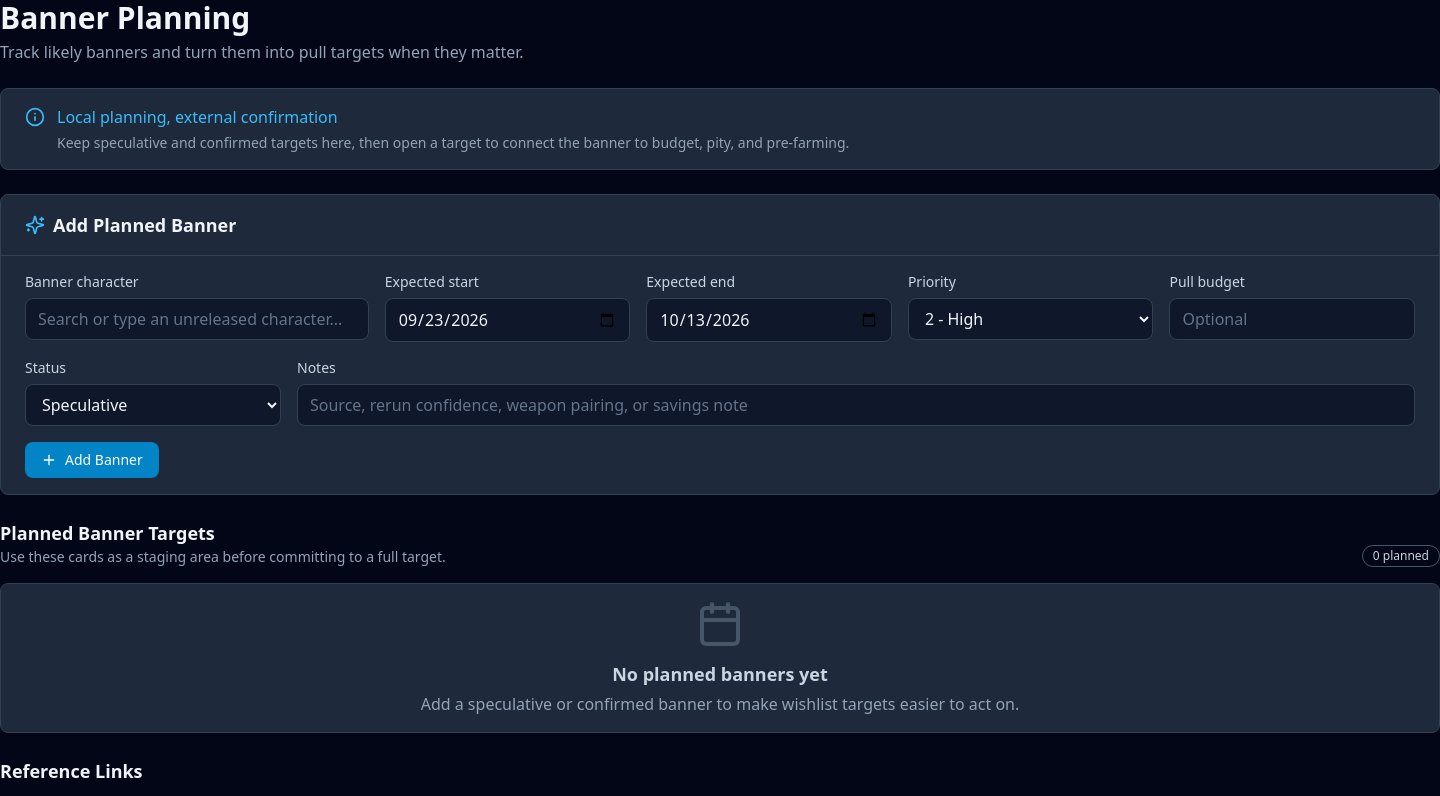
Scenario: BannersTab › validates that the expected end date is after the start date
Type "Furina" into the dropdown labelled "Banner character" at (197, 319), box [25,298,369,340]
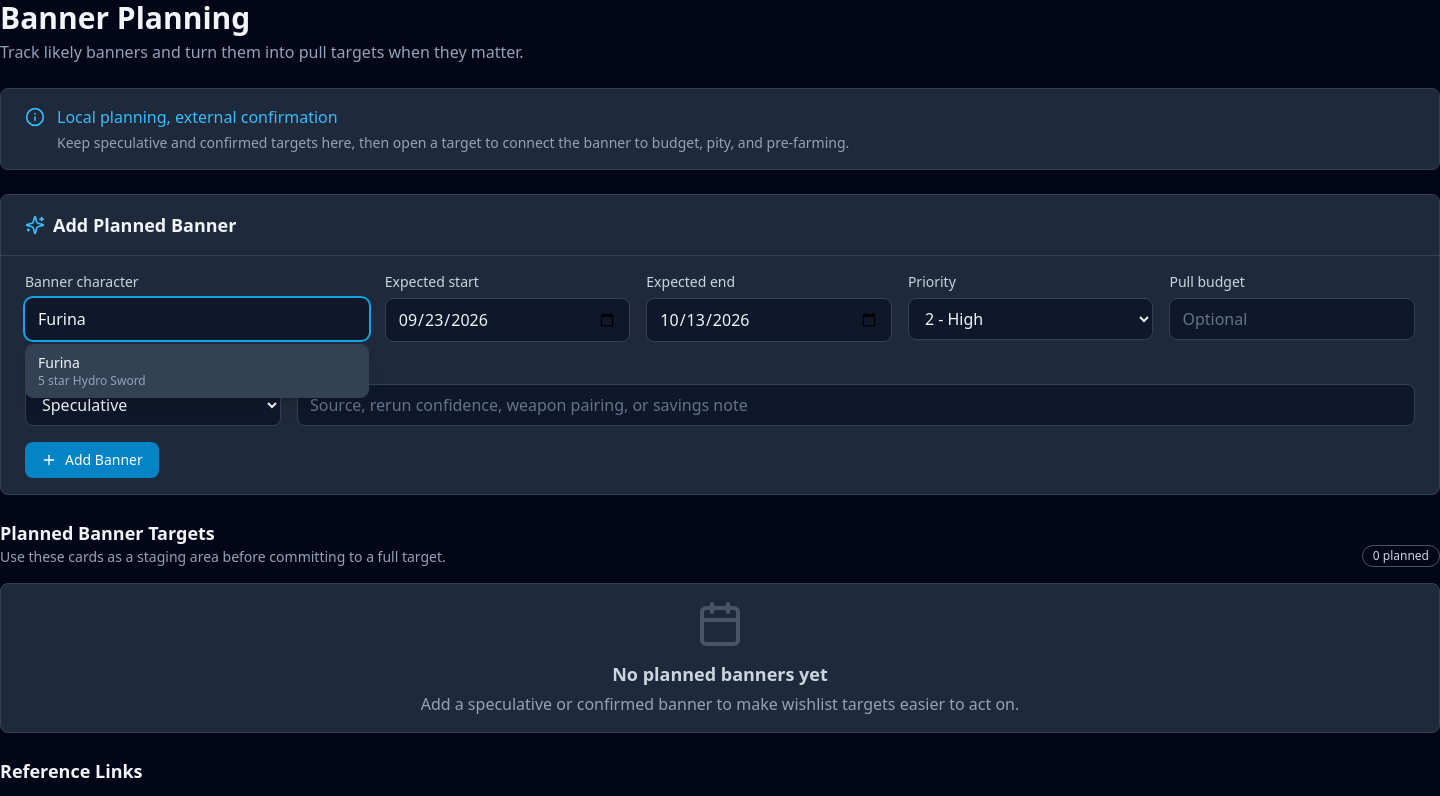
Type "2026-06-21" into the date field labelled "Expected start" at (508, 320), box [385,298,630,342]
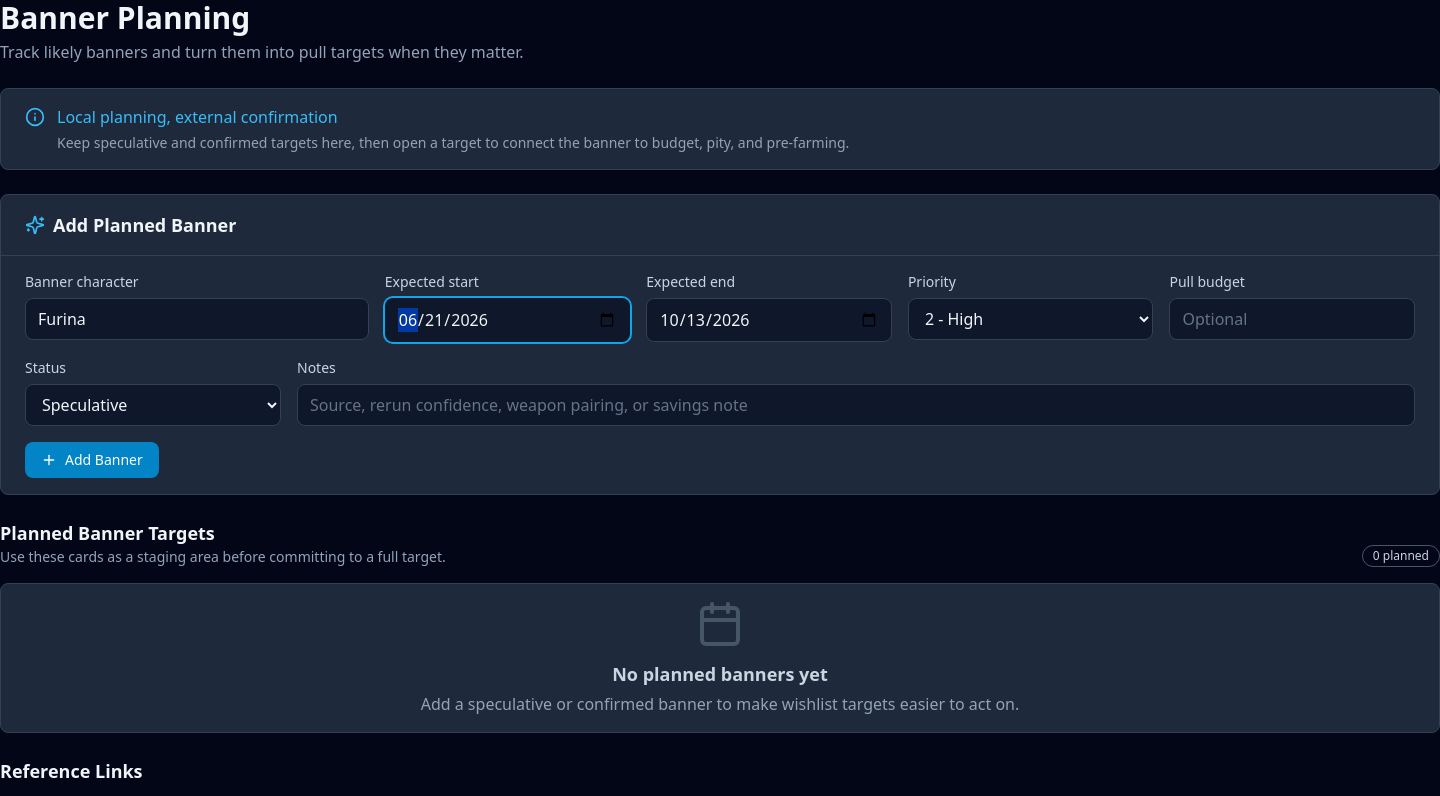
Type "2026-06-01" into the date field labelled "Expected end" at (769, 320), box [646,298,892,342]
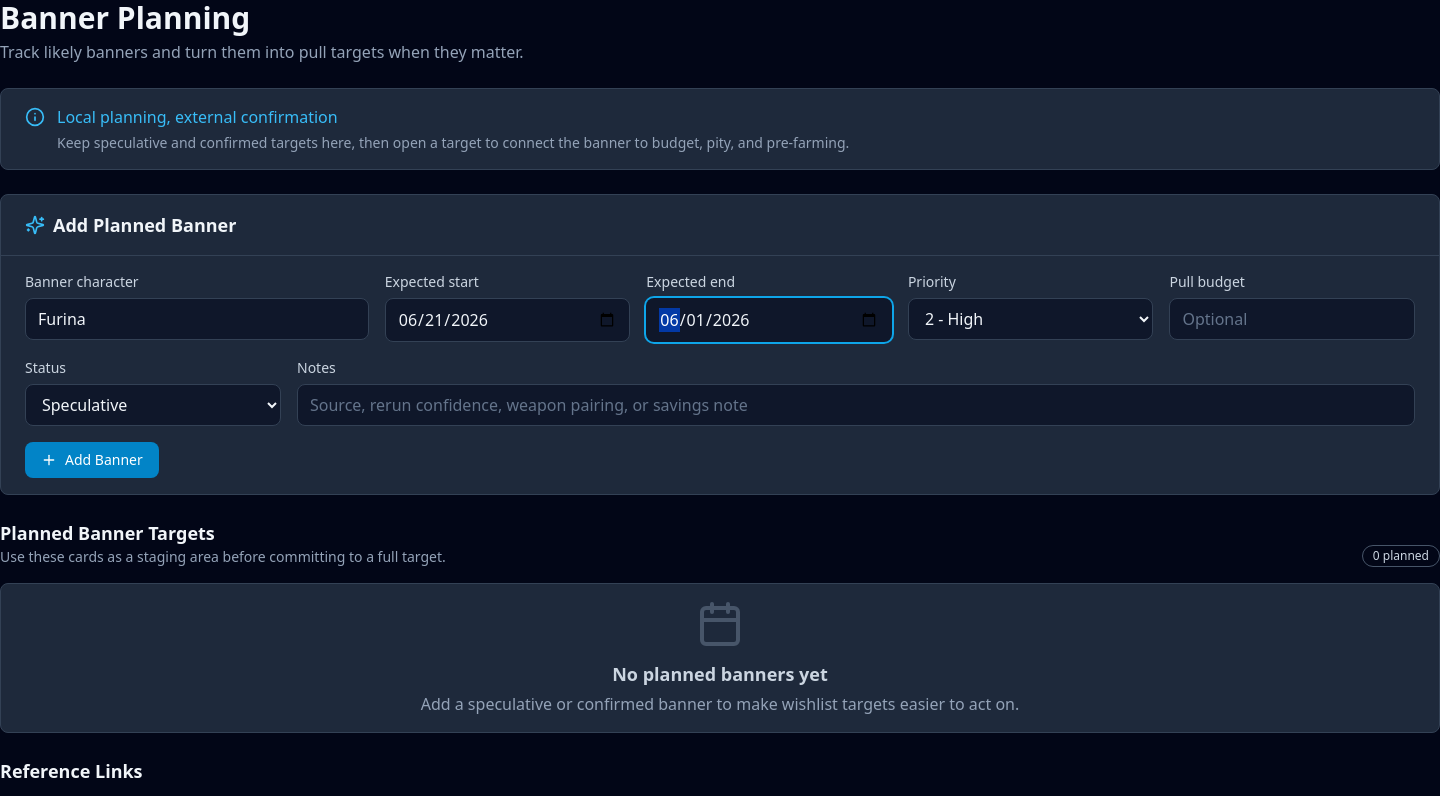
Click the button "Add Banner" at (92, 460), box [25,442,159,478]
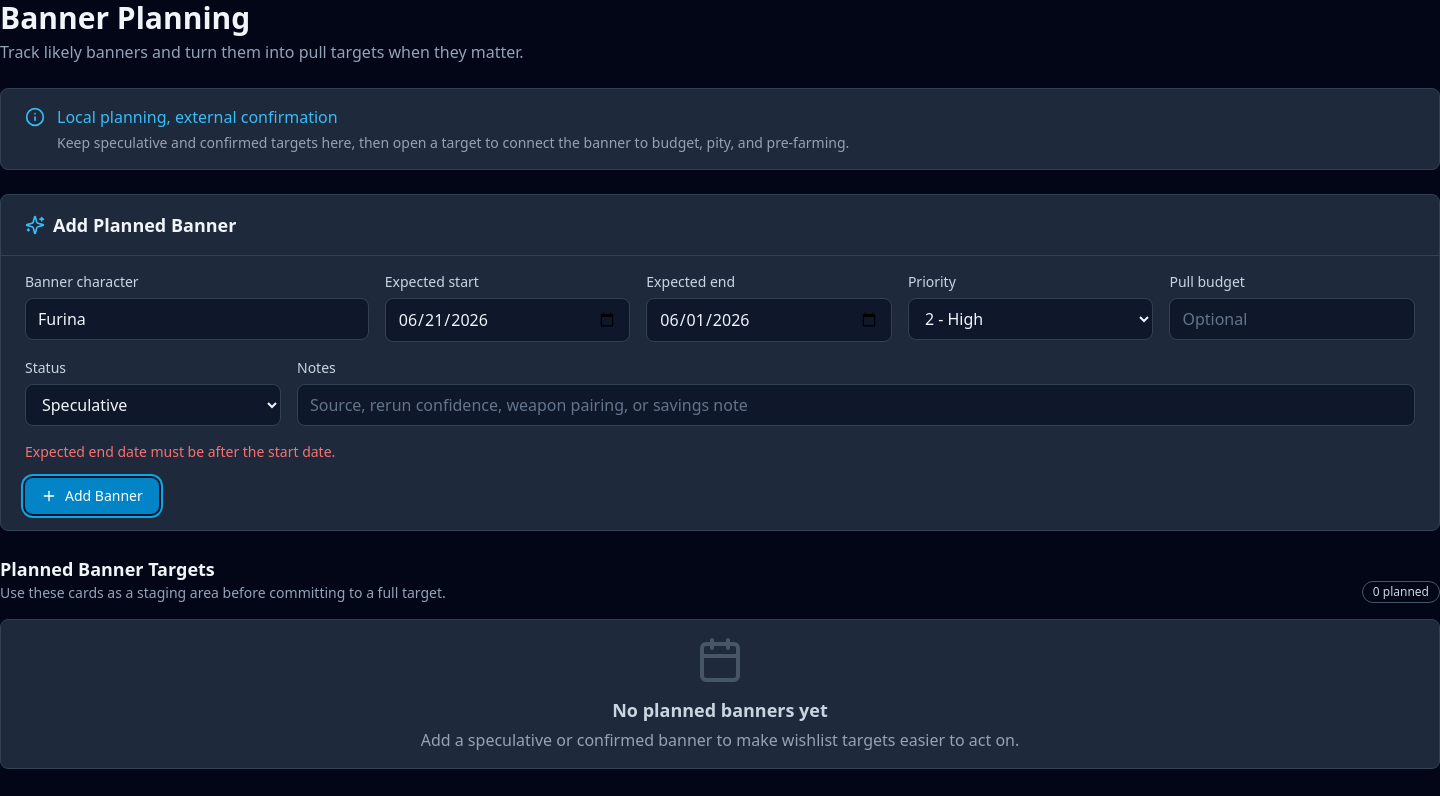
expect the text "Expected end date must be after the start date." is shown: met, box [25,442,335,461]
